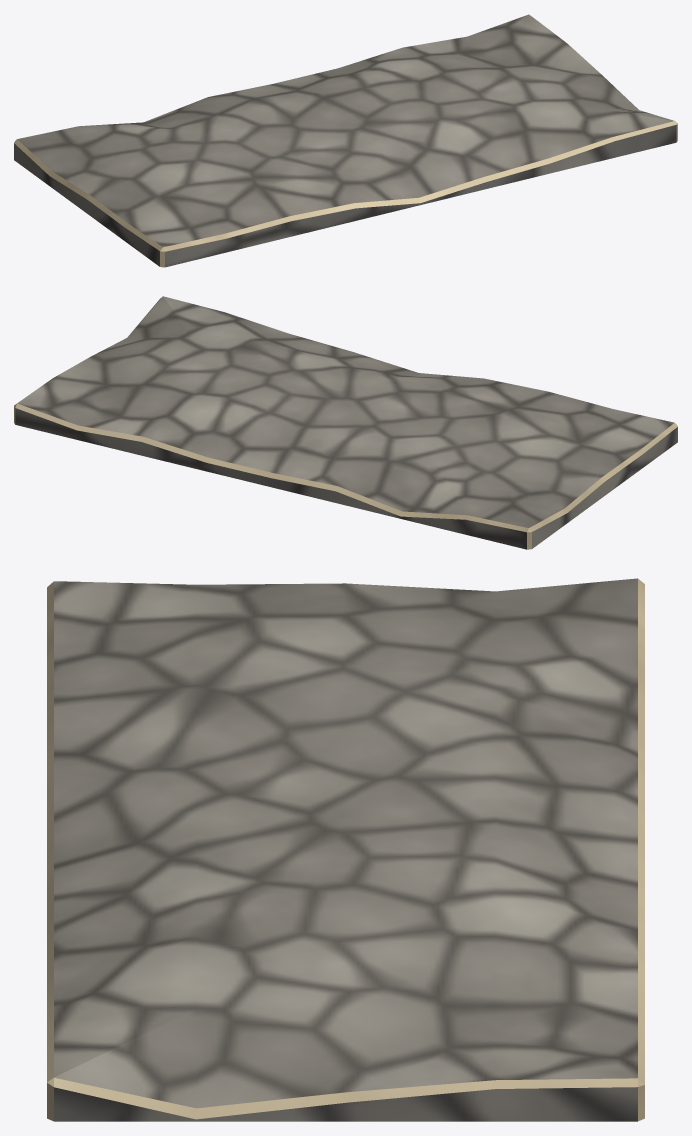
The model's file is Env_Path_Paved_Corner.fbx.
3 views of the same model, one above another, from view 1: azimuth 30°, elevation 25°; view 2: azimuth 150°, elevation 25°; view 3: azimuth 270°, elevation 25° (orthographic). The views are drawn at different scales.
Parts seen in each view (by area): view 1: Env_Path_Paved_Corner; view 2: Env_Path_Paved_Corner; view 3: Env_Path_Paved_Corner.
Boxes of the visible parts, <box> form: Env_Path_Paved_Corner: <box>14,14,677,267</box>; Env_Path_Paved_Corner: <box>14,296,677,549</box>; Env_Path_Paved_Corner: <box>47,578,644,1121</box>.
Size of the model in its own units: 200 by 100 by 11.51.
